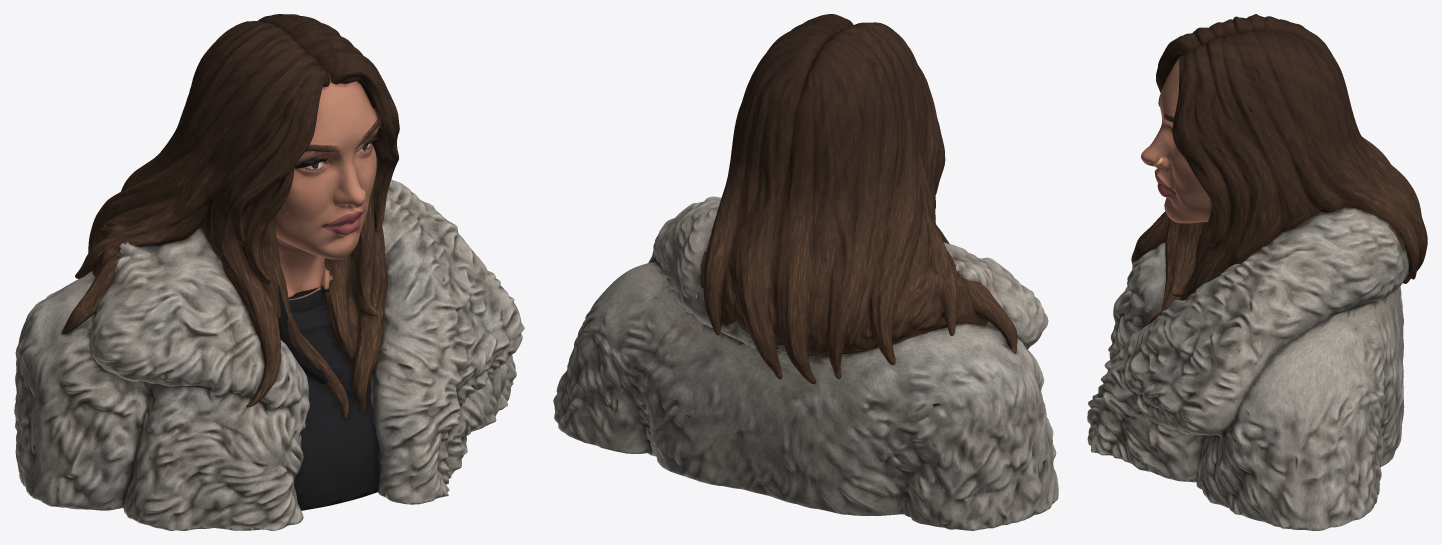
The model's file is Statue_Paris_colored.glb.
3 renders of one model, left to right at view 1: azimuth 30°, elevation 25°; view 2: azimuth 150°, elevation 25°; view 3: azimuth 270°, elevation 25°, orthographic. The views are drawn at different scales.
Parts seen in each view (by area): view 1: Statue_Paris; view 2: Statue_Paris; view 3: Statue_Paris.
Part boxes in pixels (<box>): Statue_Paris: <box>14,14,524,530</box>; Statue_Paris: <box>553,14,1058,530</box>; Statue_Paris: <box>1087,14,1427,530</box>.
Bounding box in the file's own units: 0.178 × 0.1476 × 0.1158.
7 materials, 5 textured.
